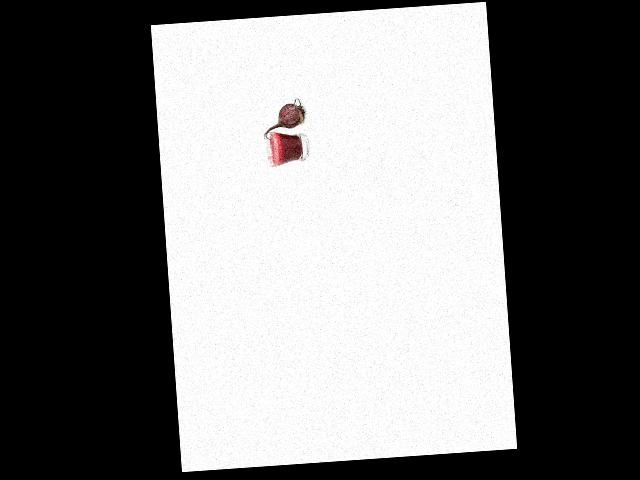beet: (261, 98, 307, 145)
